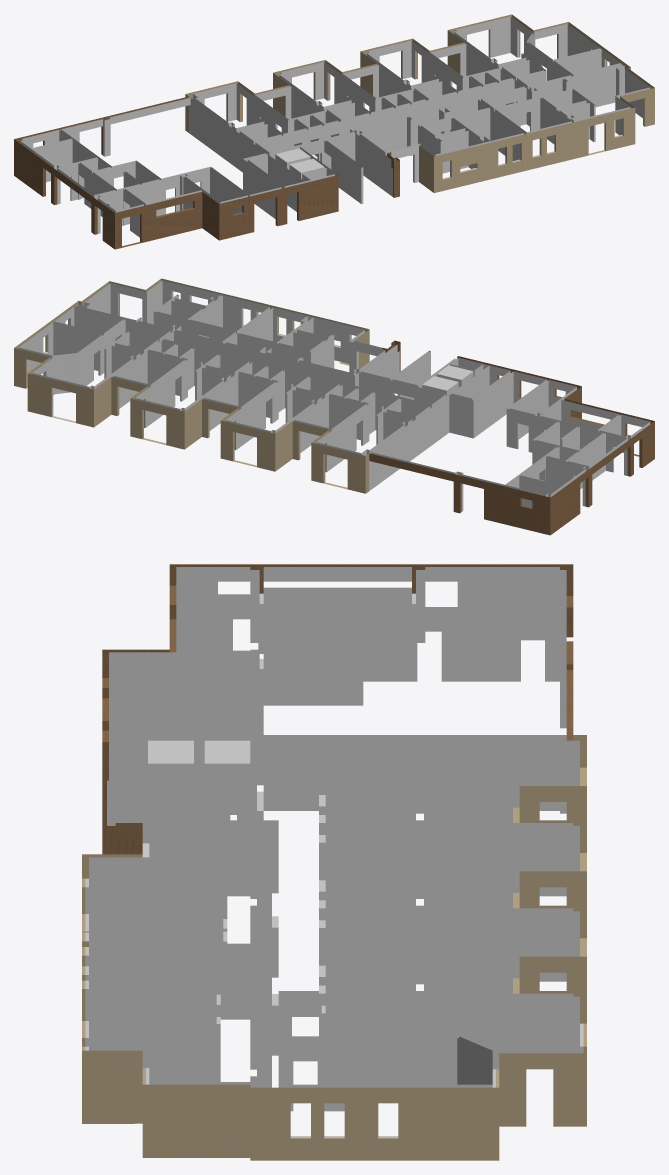
File: Obvodovy_plast_1NP.obj
3 views of the same model, one above another, from view 1: azimuth 30°, elevation 25°; view 2: azimuth 150°, elevation 25°; view 3: azimuth 270°, elevation 25° (orthographic). The views are drawn at different scales.
Visible parts, largest first — view 1: Obvodovy_plast_1NP; view 2: Obvodovy_plast_1NP; view 3: Obvodovy_plast_1NP.
Part boxes in pixels (x1=…): Obvodovy_plast_1NP: x1=14, y1=14, x2=654, y2=249; Obvodovy_plast_1NP: x1=14, y1=278, x2=654, y2=535; Obvodovy_plast_1NP: x1=82, y1=564, x2=586, y2=1160.
Size of the model in its own units: 3.39 by 0.2218 by 1.38.
